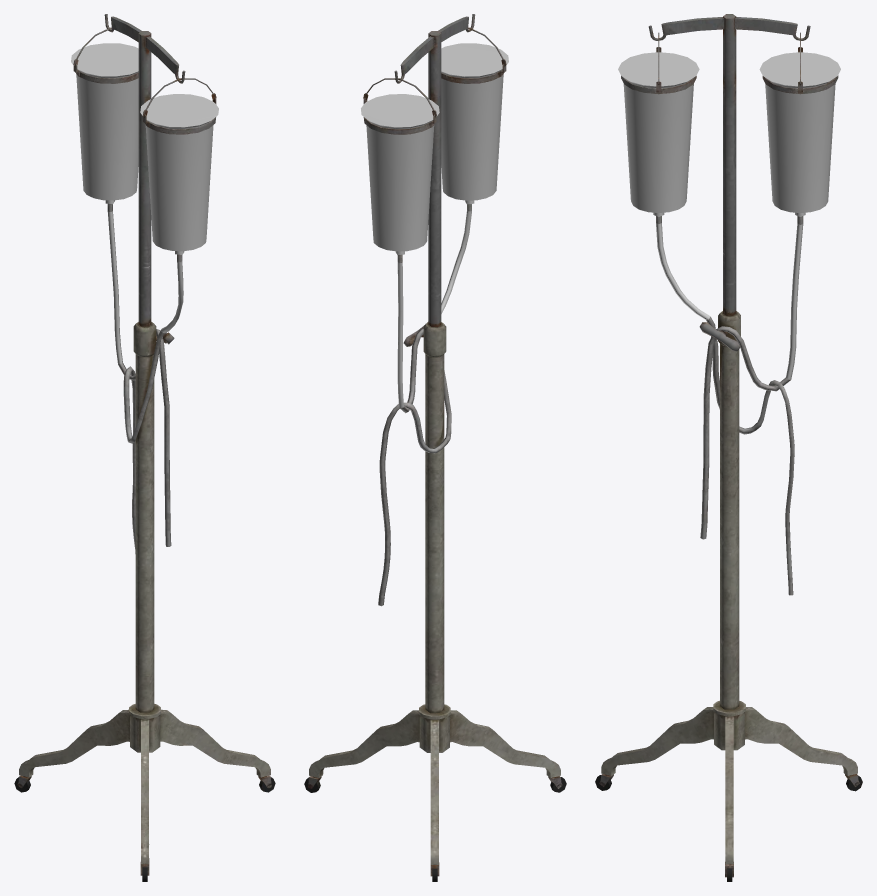
The picture shows the model from 3 angles, left to right: view 1: azimuth 30°, elevation 25°; view 2: azimuth 150°, elevation 25°; view 3: azimuth 270°, elevation 25°; orthographic projection. The views are drawn at different scales.
Visible parts, largest first — view 1: zp_iv; view 2: zp_iv; view 3: zp_iv.
Boxes of the visible parts, box(x1,y1,x2,y2) form: zp_iv: box(14, 14, 275, 881); zp_iv: box(304, 14, 566, 881); zp_iv: box(595, 14, 862, 881).
Size of the model in its own units: 0.5757 by 2.21 by 0.6659.
Materials: 2 (1 with a texture image).
